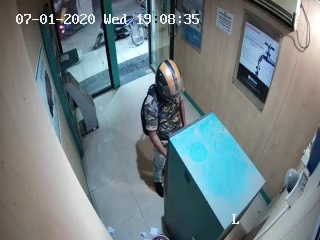helmet: (142, 58, 191, 106)
